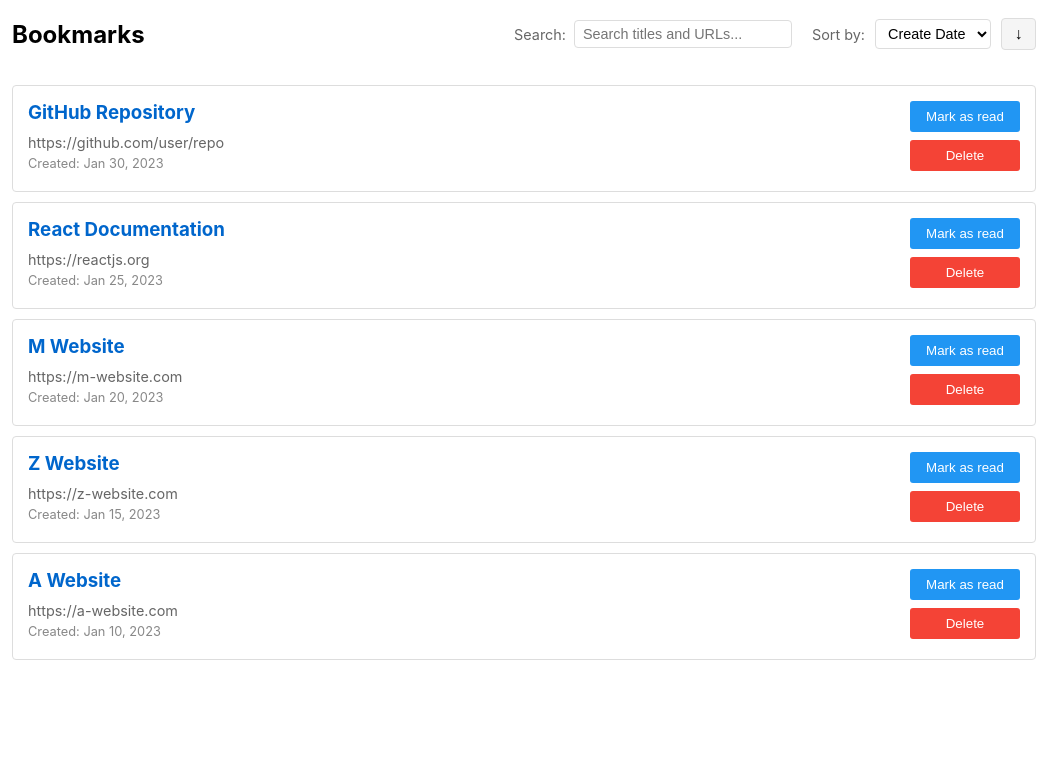
Scenario: BookmarkList Search › filters bookmarks by URL
// Search for "github"
Type "github" into the field with placeholder "Search titles and URLs...". click: point(683, 34)
box: [574,20,792,48]
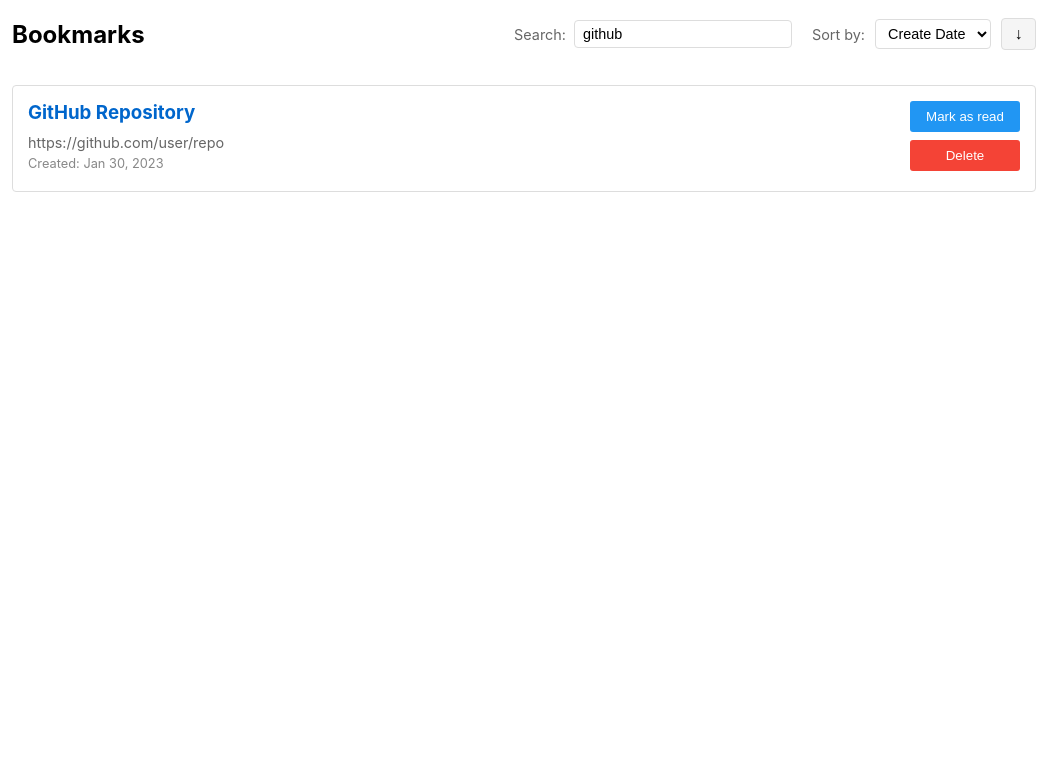
Expected: the list item shows "GitHub Repository", [28,101,195,124]
Now the number of list items is 1, box [12,85,1036,192]
